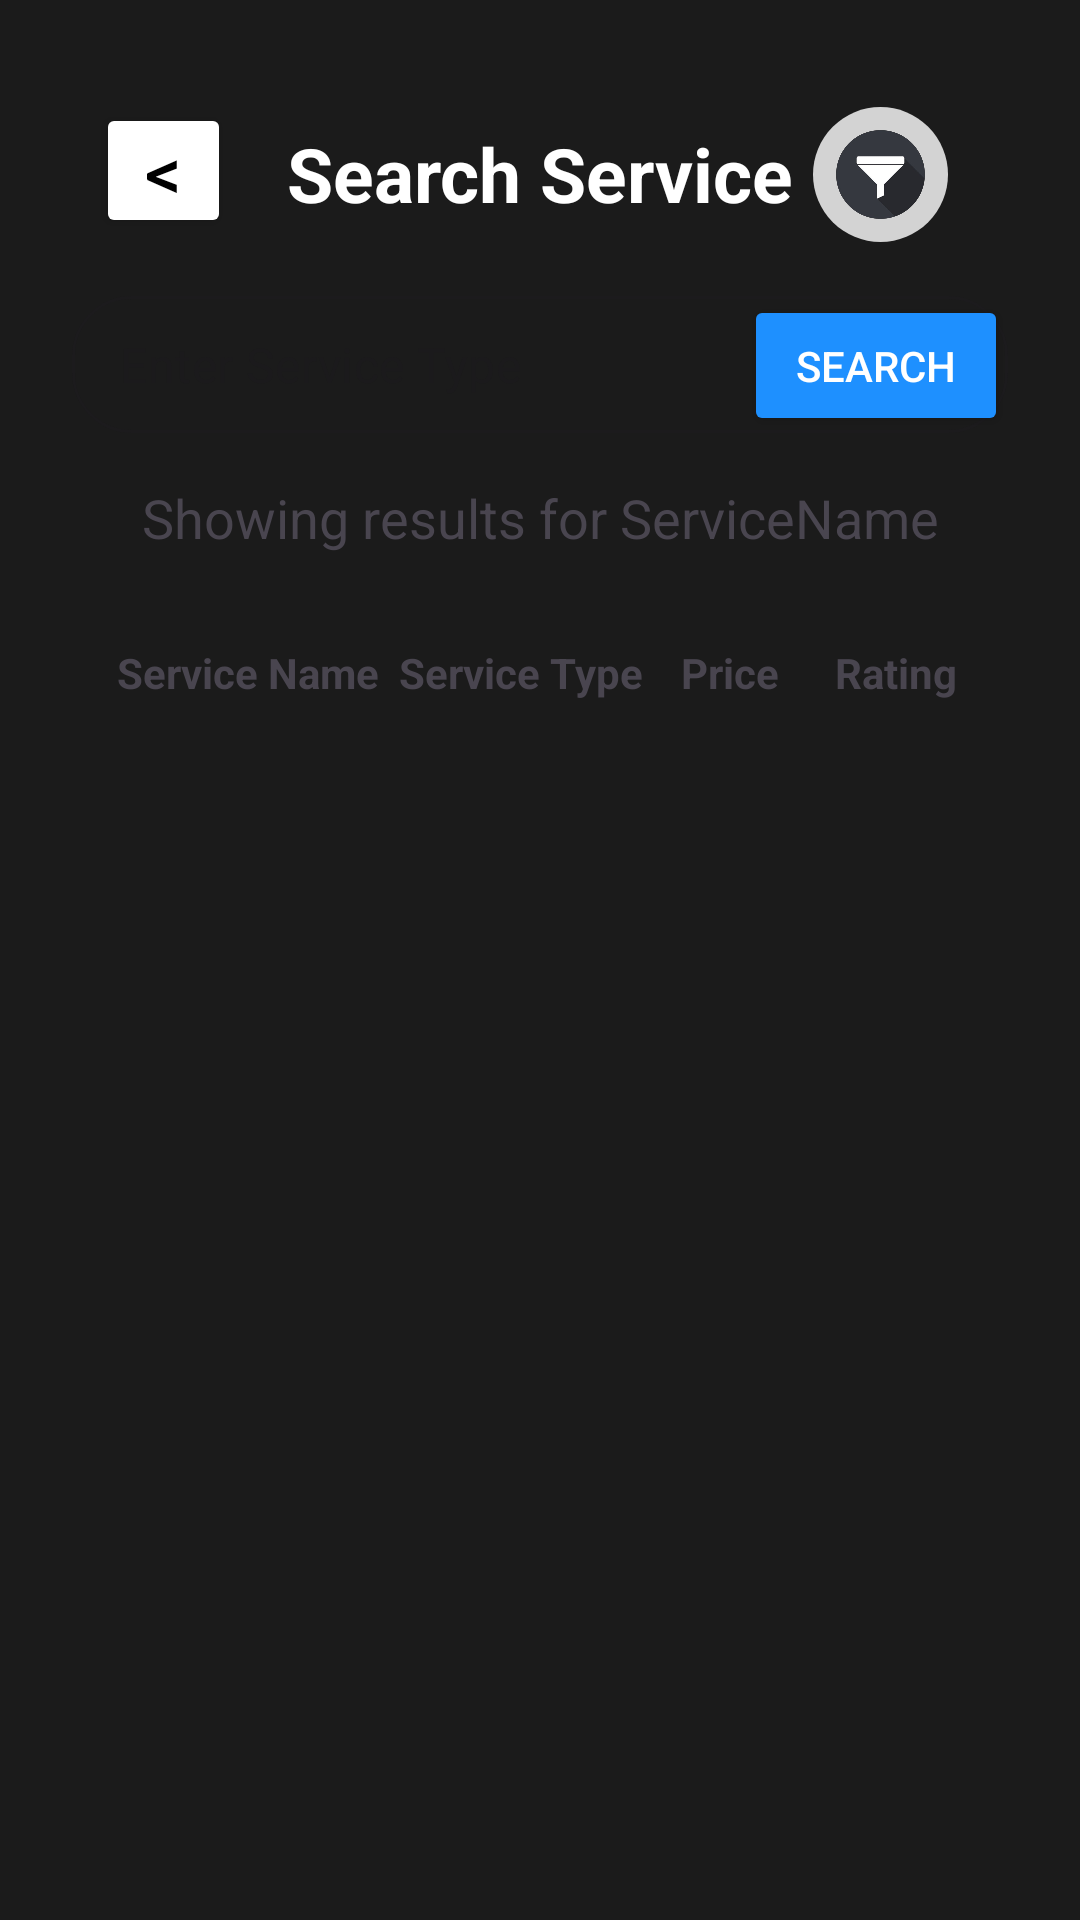

Named icons in this screenshot (1080*1920) and their bounding boxes, (left=x1, top=y1, right=x2, bottom=y2):
View Filters: (left=813, top=107, right=948, bottom=242)
